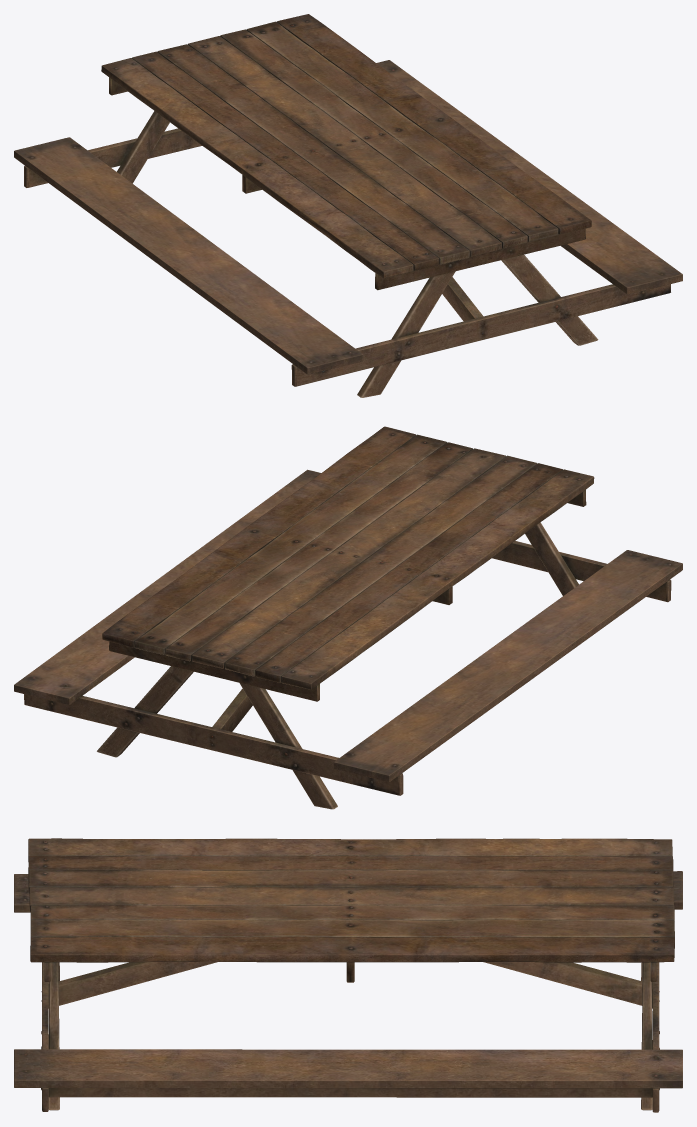
The picture shows the model from 3 angles, top to bottom: view 1: azimuth 30°, elevation 25°; view 2: azimuth 150°, elevation 25°; view 3: azimuth 270°, elevation 25°; orthographic projection. The views are drawn at different scales.
Visible parts, largest first — view 1: wooden_picnic_table; view 2: wooden_picnic_table; view 3: wooden_picnic_table.
Boxes of the visible parts, bbox=[...] form: wooden_picnic_table: bbox=[14, 14, 682, 397]; wooden_picnic_table: bbox=[14, 426, 682, 809]; wooden_picnic_table: bbox=[14, 838, 682, 1112].
Bounding box in the file's own units: 2.24 × 0.746 × 3.02.
2 materials, 2 textured.
